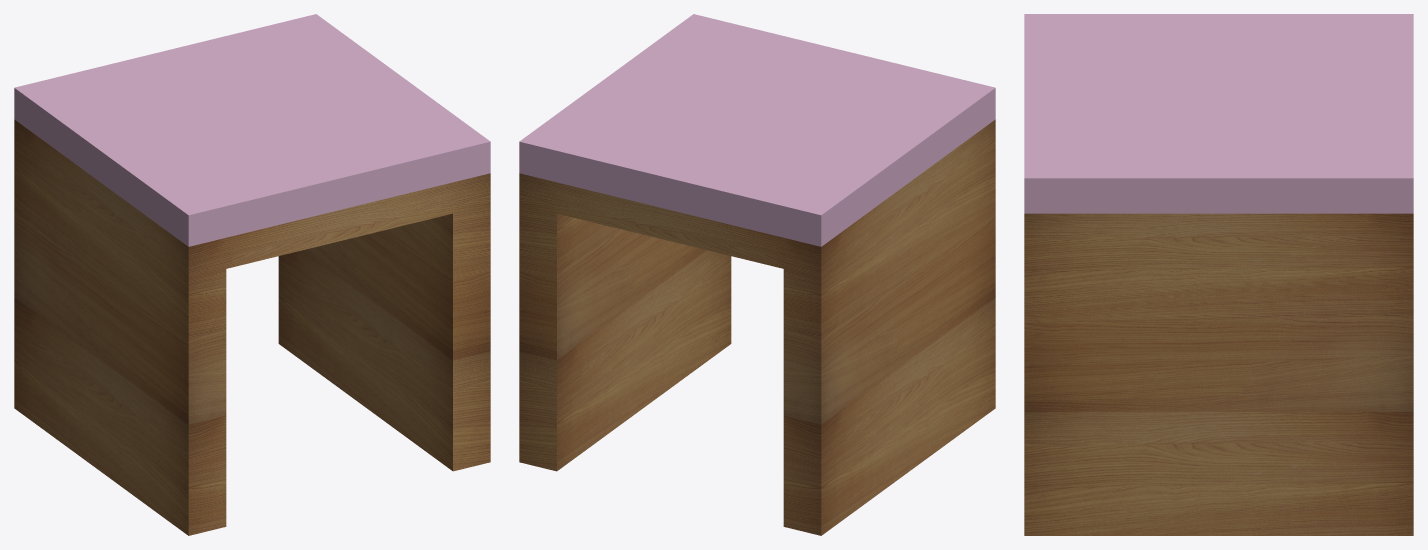
Rendered from Prop_SC_Chair1.FBX.
The picture shows the model from 3 angles, left to right: view 1: azimuth 30°, elevation 25°; view 2: azimuth 150°, elevation 25°; view 3: azimuth 270°, elevation 25°; orthographic projection. The views are drawn at different scales.
Visible parts, largest first — view 1: Prop_SC_Chair1; view 2: Prop_SC_Chair1; view 3: Prop_SC_Chair1.
Boxes of the visible parts, x1=… form: Prop_SC_Chair1: x1=14, y1=14, x2=490, y2=535; Prop_SC_Chair1: x1=519, y1=14, x2=995, y2=535; Prop_SC_Chair1: x1=1024, y1=14, x2=1413, y2=535.
Bounding box in the file's own units: 19.69 × 19.97 × 19.69.
